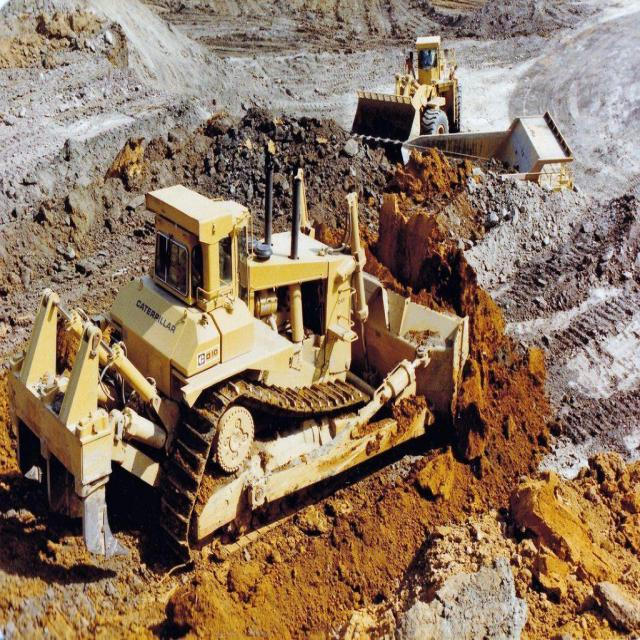buldozerpayloadergrader: (11, 176, 499, 582)
